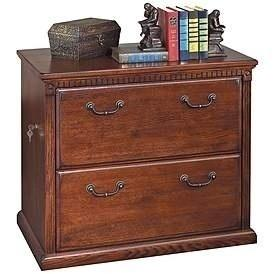cabinet_door: (57, 157, 246, 246), (58, 87, 245, 166)
handle: (84, 179, 126, 200), (85, 98, 125, 118), (179, 169, 219, 189), (178, 90, 218, 110)
